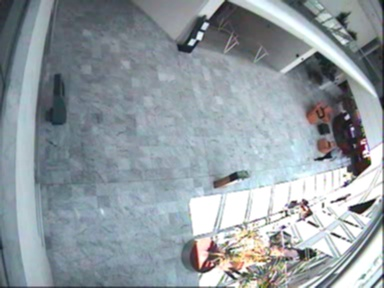person: (282, 198, 313, 217), (314, 147, 345, 161)
